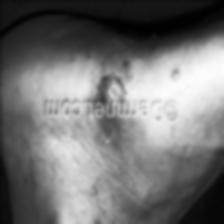Toxin: (96, 72, 128, 105)
